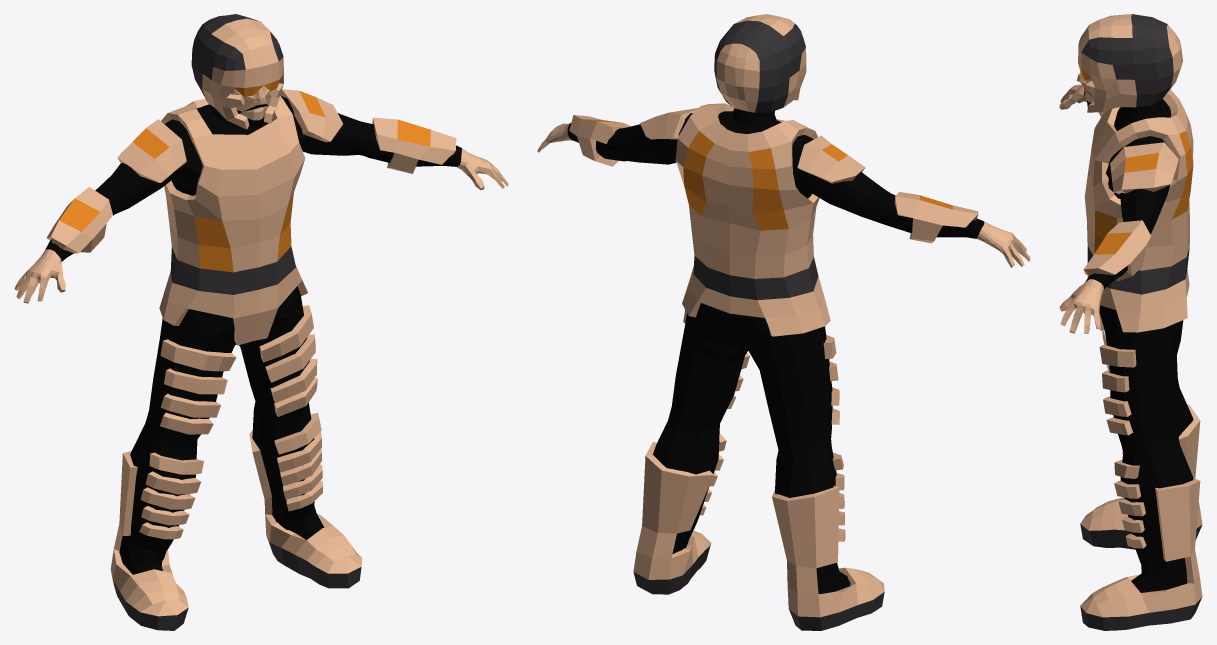
File: Personaje Crema.fbx
3 renders of one model, left to right at view 1: azimuth 30°, elevation 25°; view 2: azimuth 150°, elevation 25°; view 3: azimuth 270°, elevation 25°, orthographic.
Parts seen in each view (by area): view 1: Plane.022, Plane.021; view 2: Plane.022, Plane.021; view 3: Plane.022, Plane.021.
Part boxes in pixels (<box>): Plane.022: <box>46,14,456,630</box>; Plane.021: <box>14,85,508,574</box>; Plane.022: <box>569,14,978,630</box>; Plane.021: <box>537,108,1030,593</box>; Plane.022: <box>1078,14,1202,630</box>; Plane.021: <box>1059,72,1193,592</box>.
Bounding box in the file's own units: 1.61 × 1.82 × 0.4184.
